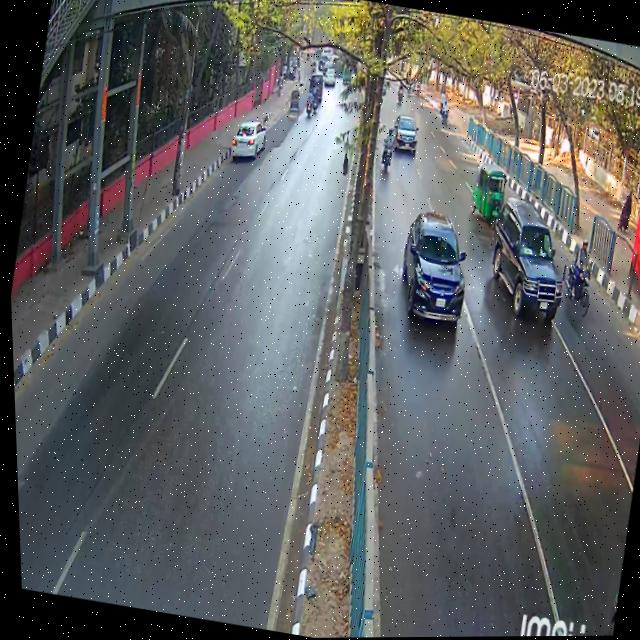cng: (463, 160, 511, 230)
rikshaw: (282, 83, 305, 129)
